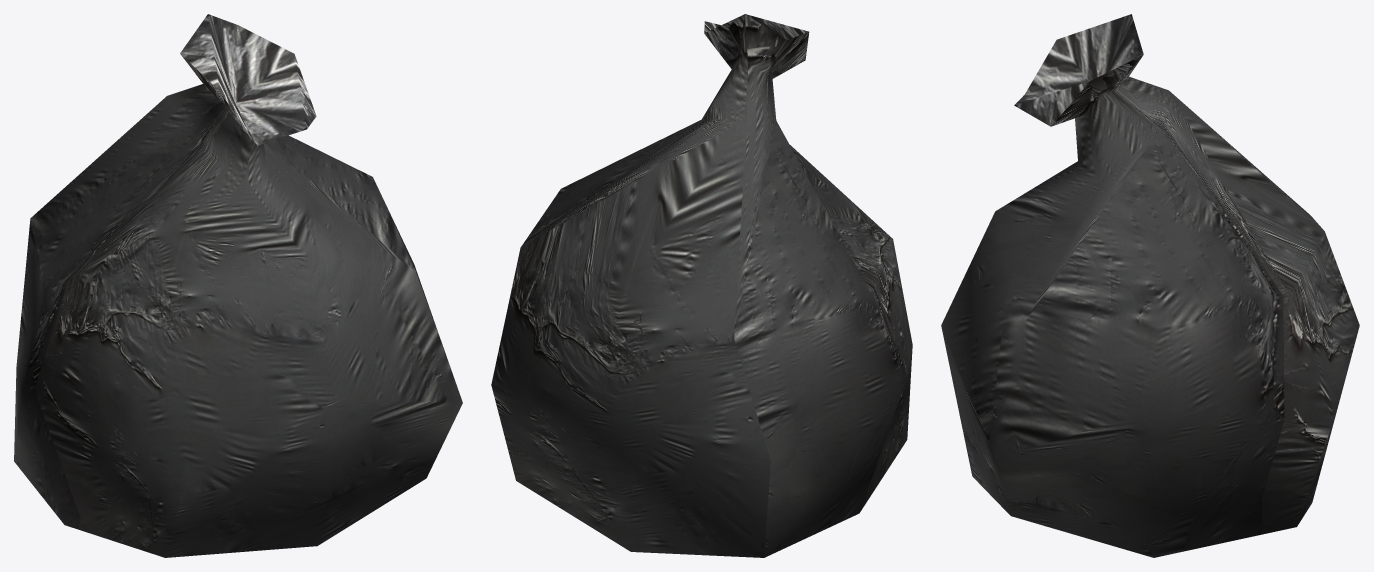
File: garbagebag_5.fbx
3 renders of one model, left to right at view 1: azimuth 30°, elevation 25°; view 2: azimuth 150°, elevation 25°; view 3: azimuth 270°, elevation 25°, orthographic. The views are drawn at different scales.
Parts seen in each view (by area): view 1: garbage_bag; view 2: garbage_bag; view 3: garbage_bag.
Boxes of the visible parts, left/top/right/bottom form: garbage_bag: left=14, top=14, right=462, bottom=557; garbage_bag: left=491, top=14, right=912, bottom=557; garbage_bag: left=941, top=14, right=1359, bottom=557.
Size of the model in its own units: 0.7422 by 0.9561 by 0.719.
